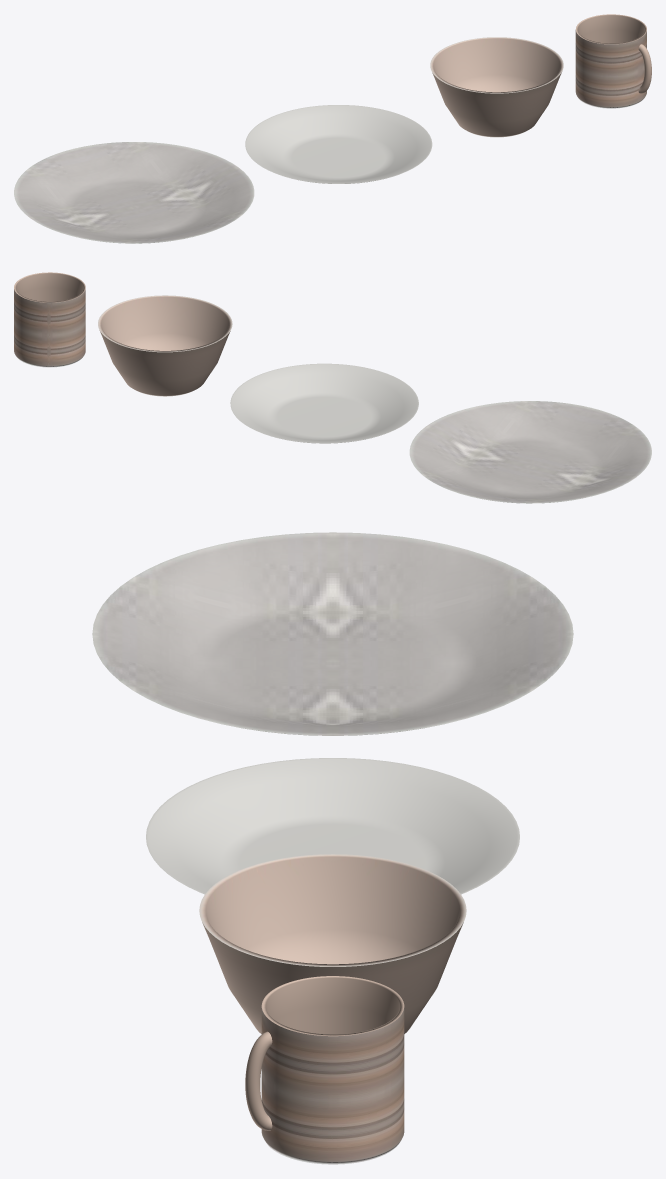
The model's file is EST-03.glb.
3 renders of one model, top to bottom at view 1: azimuth 30°, elevation 25°; view 2: azimuth 150°, elevation 25°; view 3: azimuth 270°, elevation 25°, orthographic. The views are drawn at different scales.
Size of the model in its own units: 0.7932 by 0.08 by 0.27.
Materials: 9 (7 with a texture image).
